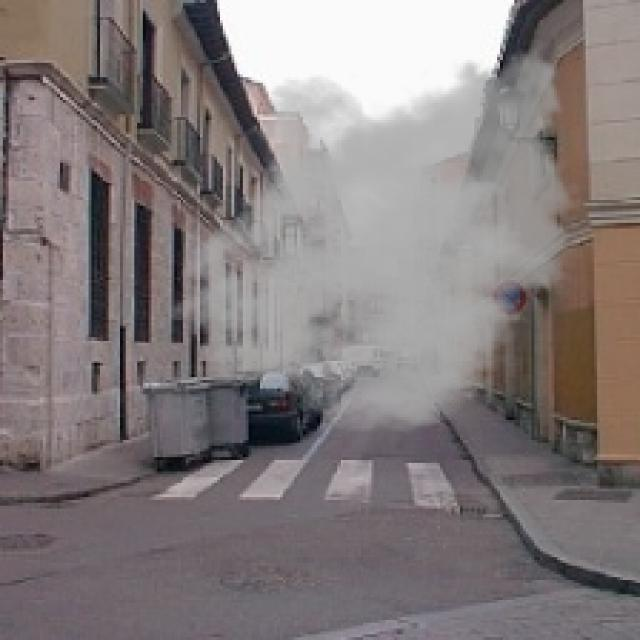Smoke: (165, 34, 586, 434)
